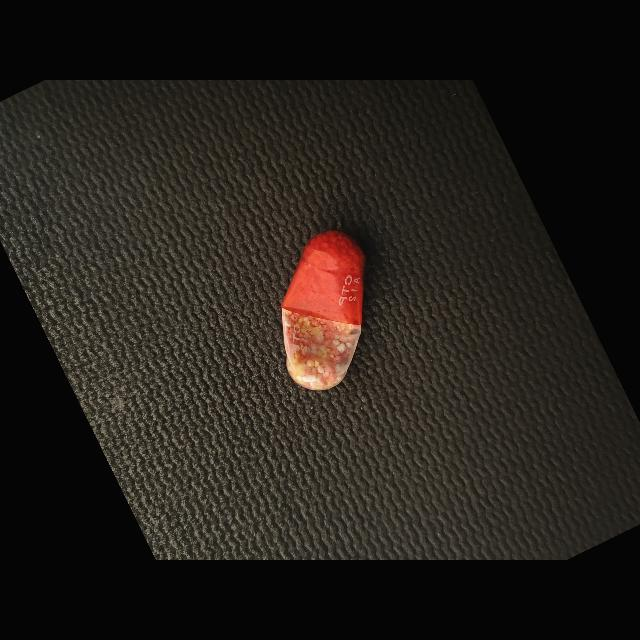Defective Capsule: (281, 230, 365, 391)
